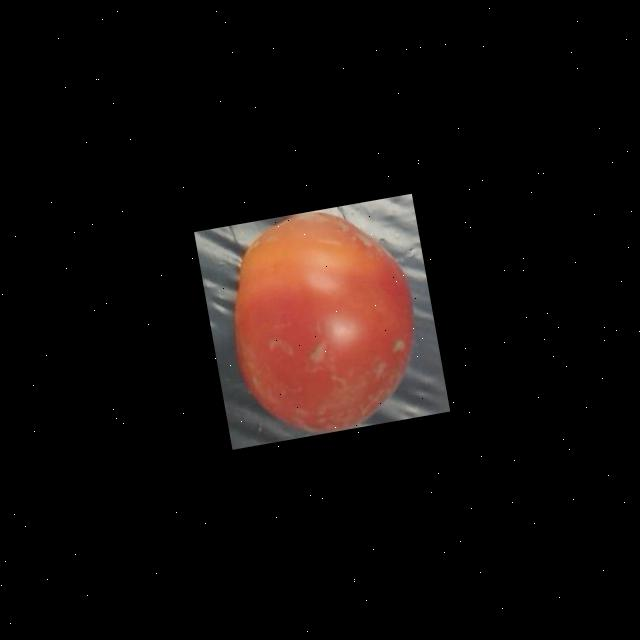tomato: (209, 194, 434, 445)
